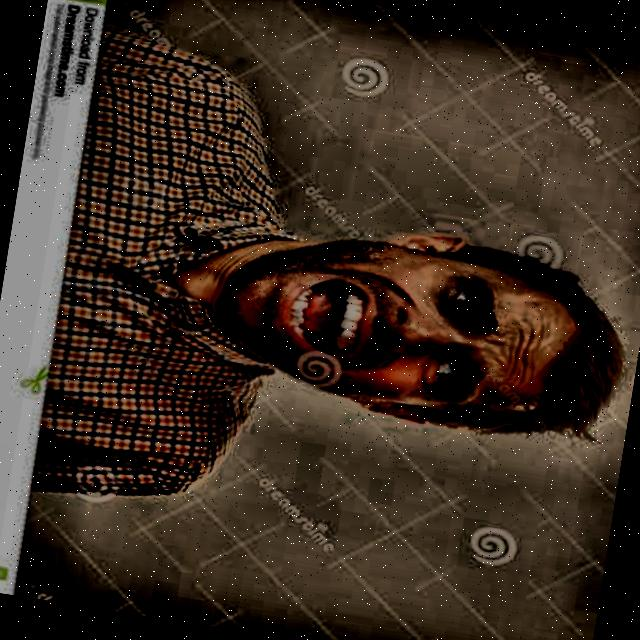fear: (191, 188, 640, 475)
